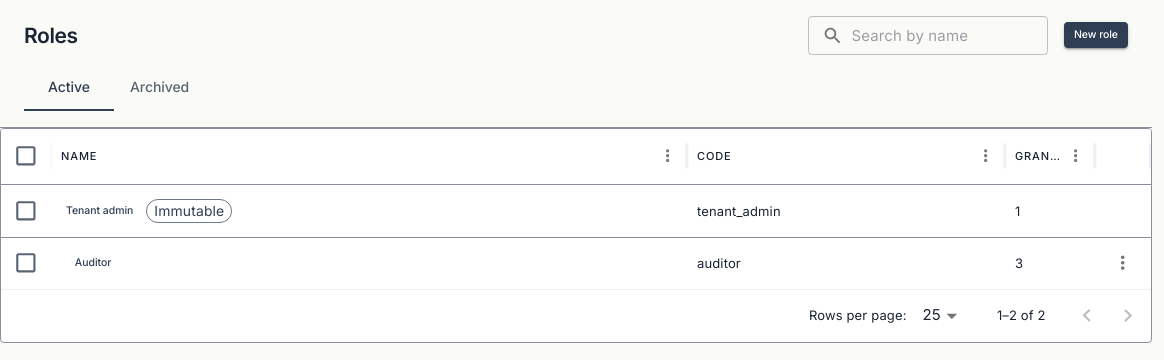
Test: RolesPage (M0003-R016–R018) › searches roles by name or code in the header
The width and height of the screenshot is (1164, 360).
Expected: the button "Auditor" is shown, left=61, top=250, right=125, bottom=276
Type "tenant" into the search field with placeholder "Search by name".
click(950, 35); type("tenant")  # box left=851, top=16, right=1048, bottom=55
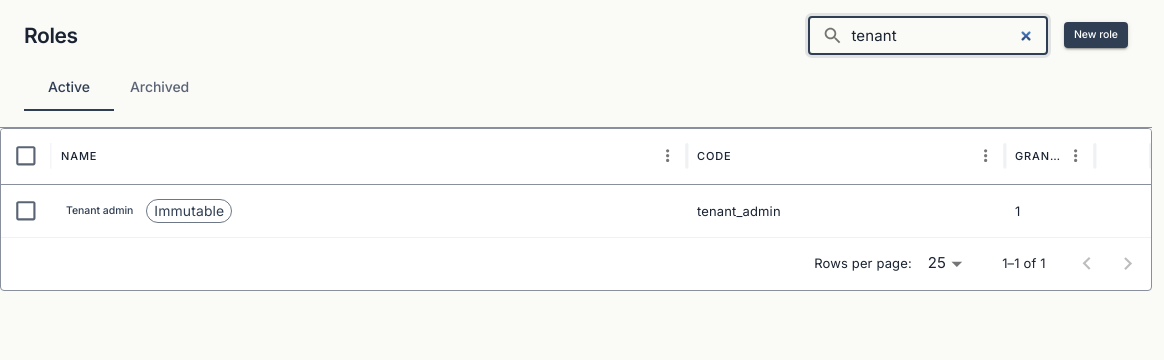
Expected: the button "Tenant admin" is shown, left=61, top=198, right=138, bottom=224
Result: the button "Auditor" is gone
